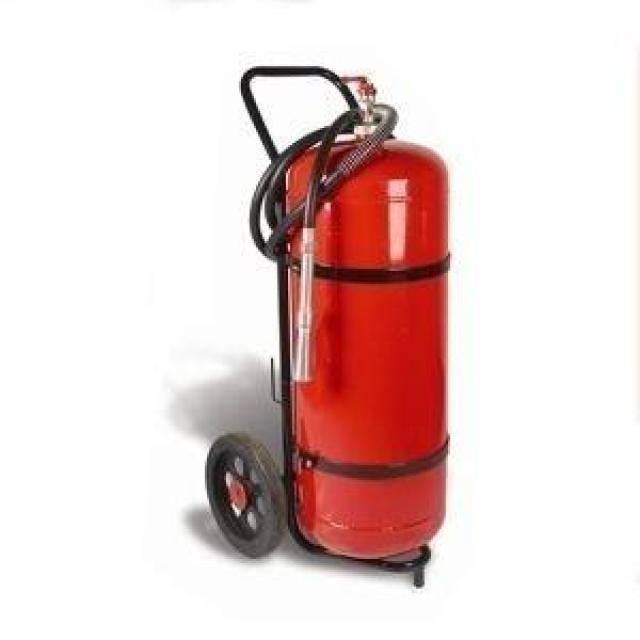fire_extinguisher: (244, 63, 456, 564)
